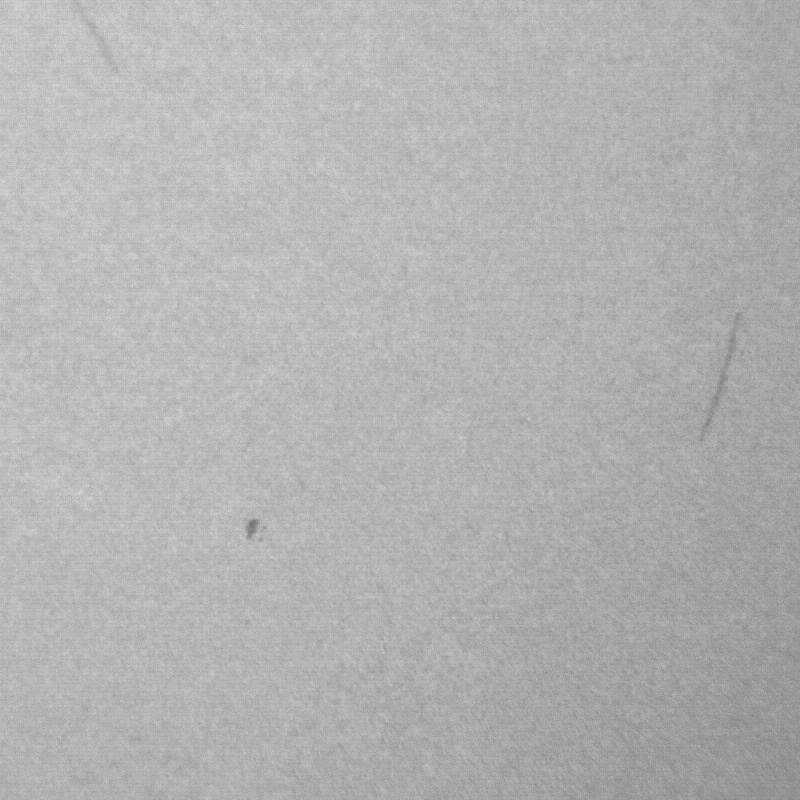defect: (697, 318, 738, 444), (72, 1, 120, 75), (245, 515, 269, 543)
